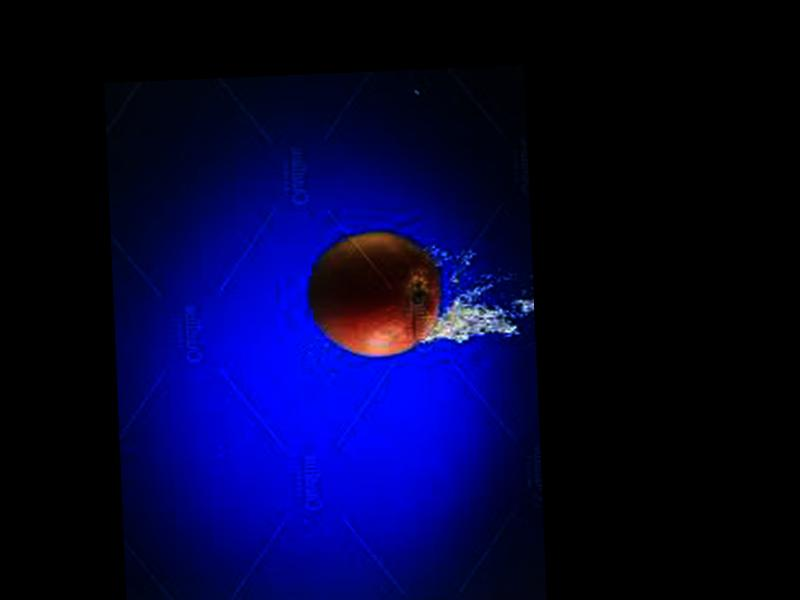Tomato: (310, 227, 443, 359)
